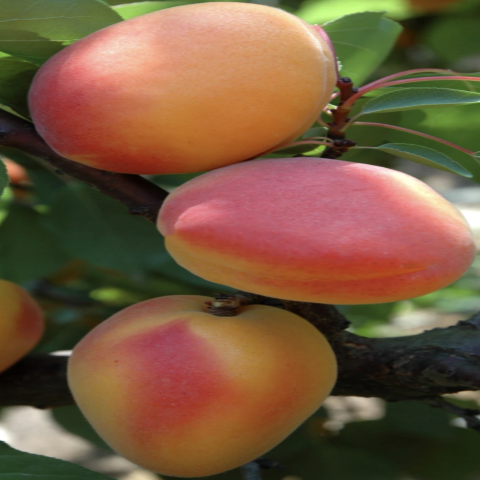mango: (9, 3, 357, 179), (46, 276, 359, 464), (153, 140, 477, 316)
